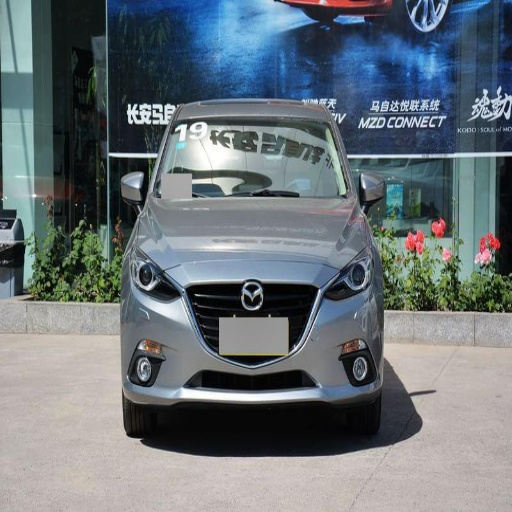back_right_light: (122, 257, 382, 404)
front_bumper: (157, 118, 349, 198)
front_left_door: (326, 249, 374, 298)
front_right_door: (127, 242, 176, 299)
front_right_light: (143, 197, 367, 269)
hood: (360, 173, 391, 206)
left_mirror: (121, 171, 145, 206)
trunk: (123, 402, 161, 439), (344, 398, 381, 433)
